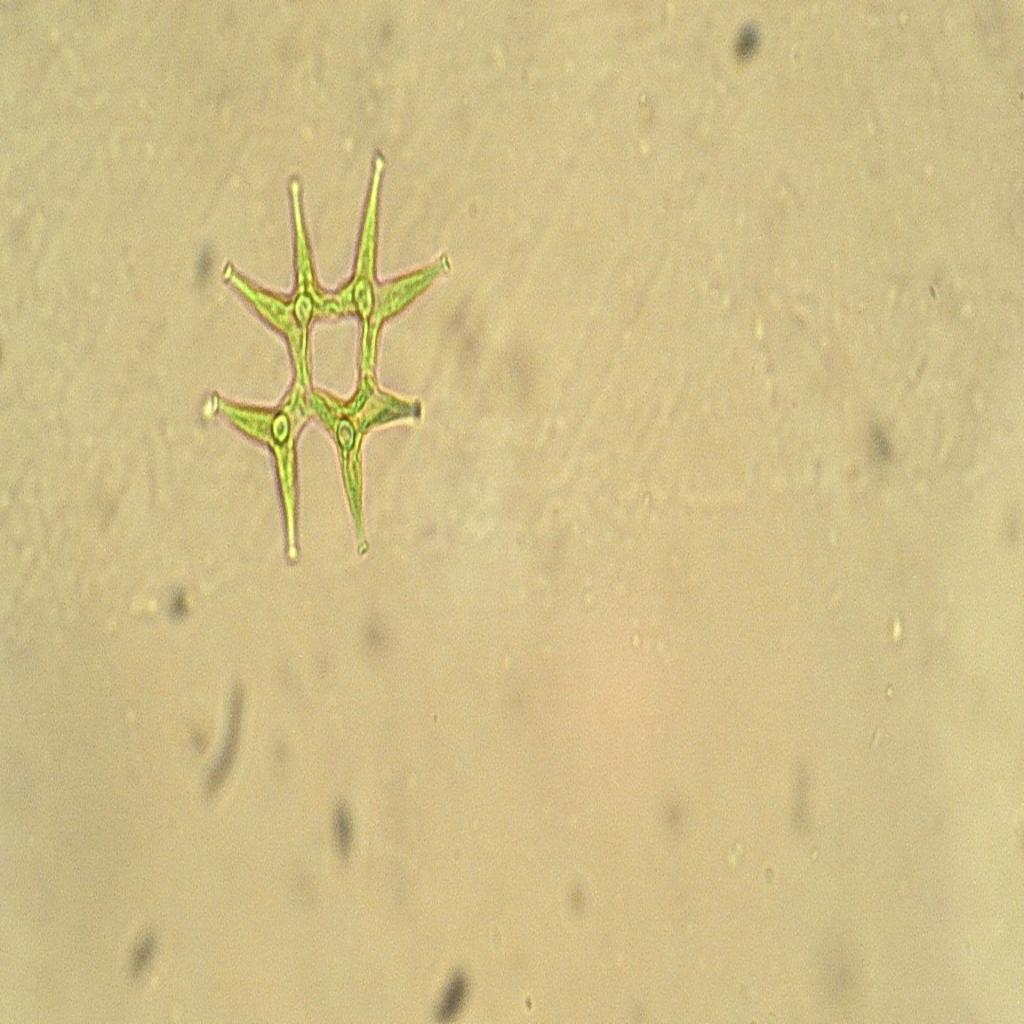Pediastrum_75FI: (196, 140, 468, 577)
